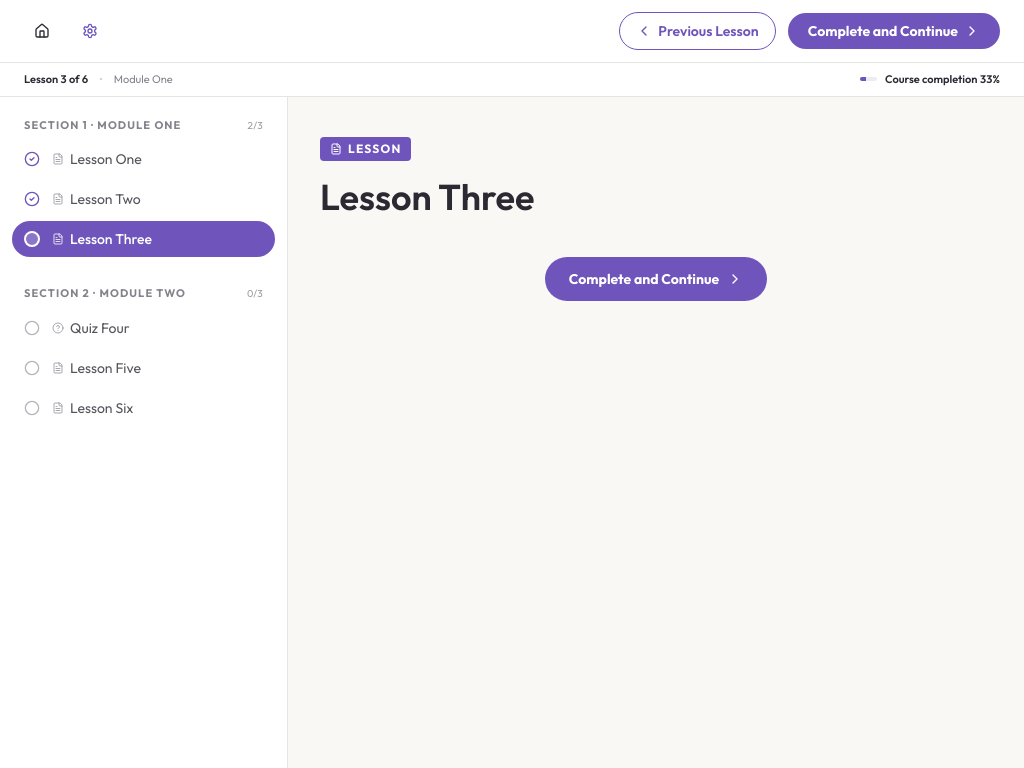
CourseLearn with the real read model (T-10) › a failed readback after a resolved write stays unknown with the error notice
Check: the element with test id "learn-completion" reads "Course completion 33%", box 885,72 -> 1000,86
Click the 1st button "Complete and Continue": (894, 31) 788,13 -> 1000,49
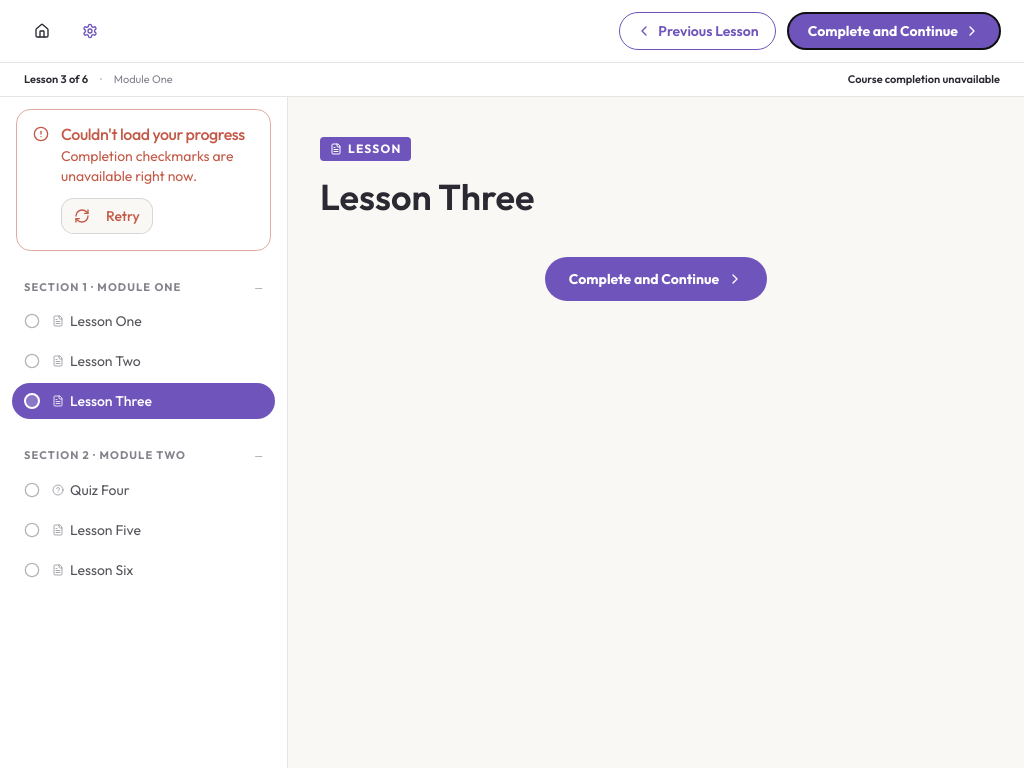
Check: the element with test id "learn-completion" reads "Course completion unavailable", box 848,72 -> 1000,86
Check: the heading "Couldn't load your progress" is shown, box 61,124 -> 245,144
